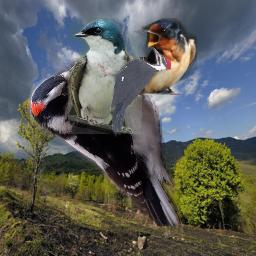Swallow: (68, 18, 142, 134), (134, 18, 197, 95)
Woodpecker: (27, 57, 181, 226), (97, 47, 173, 135)
